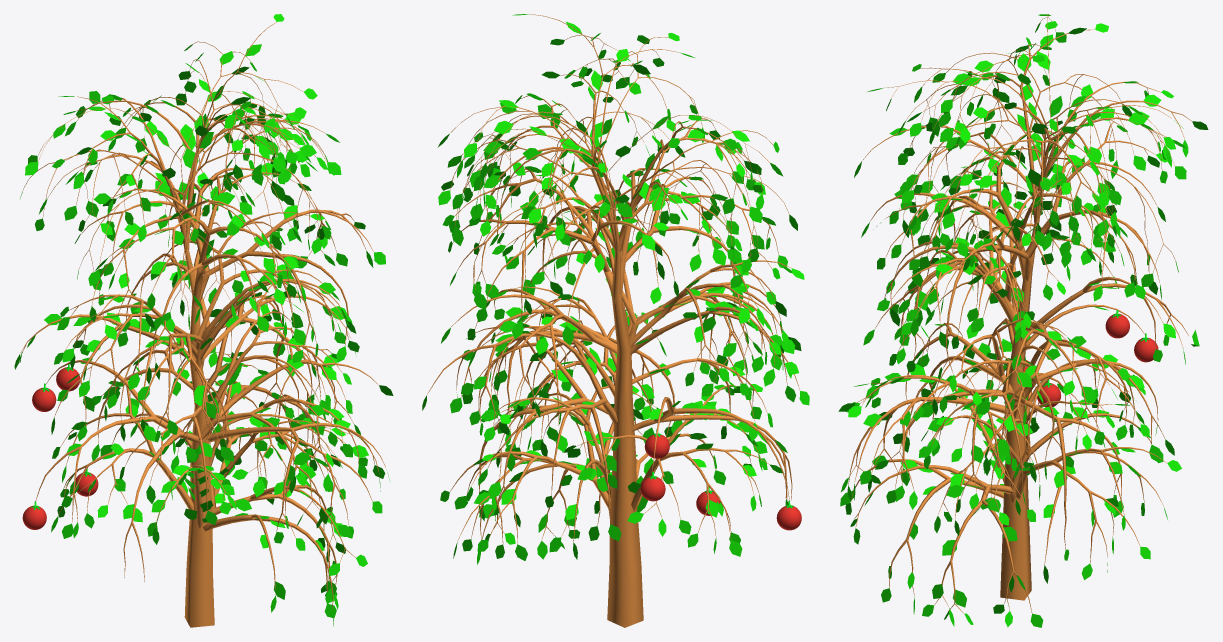
File: new_apple_tree.dae
The picture shows the model from 3 angles, left to right: view 1: azimuth 30°, elevation 25°; view 2: azimuth 150°, elevation 25°; view 3: azimuth 270°, elevation 25°; orthographic projection. The views are drawn at different scales.
Visible parts, largest first — view 1: apple_tree; view 2: apple_tree; view 3: apple_tree.
Part boxes in pixels (x1,y1,x2,y2): apple_tree: [14, 14, 393, 627]; apple_tree: [422, 14, 809, 627]; apple_tree: [838, 14, 1208, 627].
Bounding box in the file's own units: 2.1 × 1.91 × 3.32.
